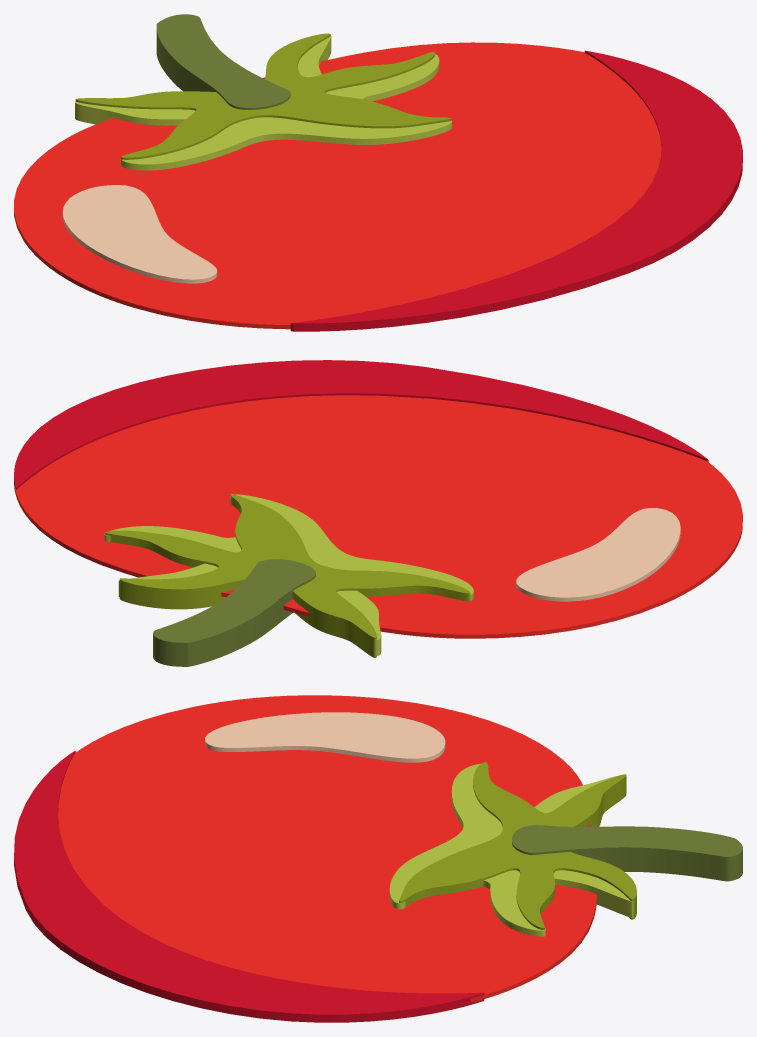
File: emoji_u1f345.glb
3 views of the same model, one above another, from view 1: azimuth 30°, elevation 25°; view 2: azimuth 150°, elevation 25°; view 3: azimuth 270°, elevation 25° (orthographic).
Parts seen in each view (by area): view 1: emoji_u1f345; view 2: emoji_u1f345; view 3: emoji_u1f345.
Boxes of the visible parts, x1,y1,x2,y2 form: emoji_u1f345: (14, 14, 742, 331); emoji_u1f345: (14, 360, 742, 666); emoji_u1f345: (14, 695, 742, 1022).
Size of the model in its own units: 0.034 by 0.0012 by 0.0326.
